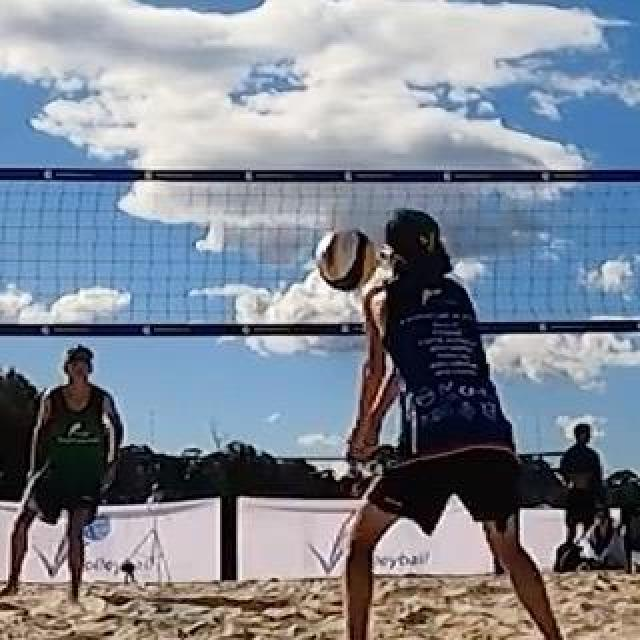volleyball: (318, 231, 376, 291)
